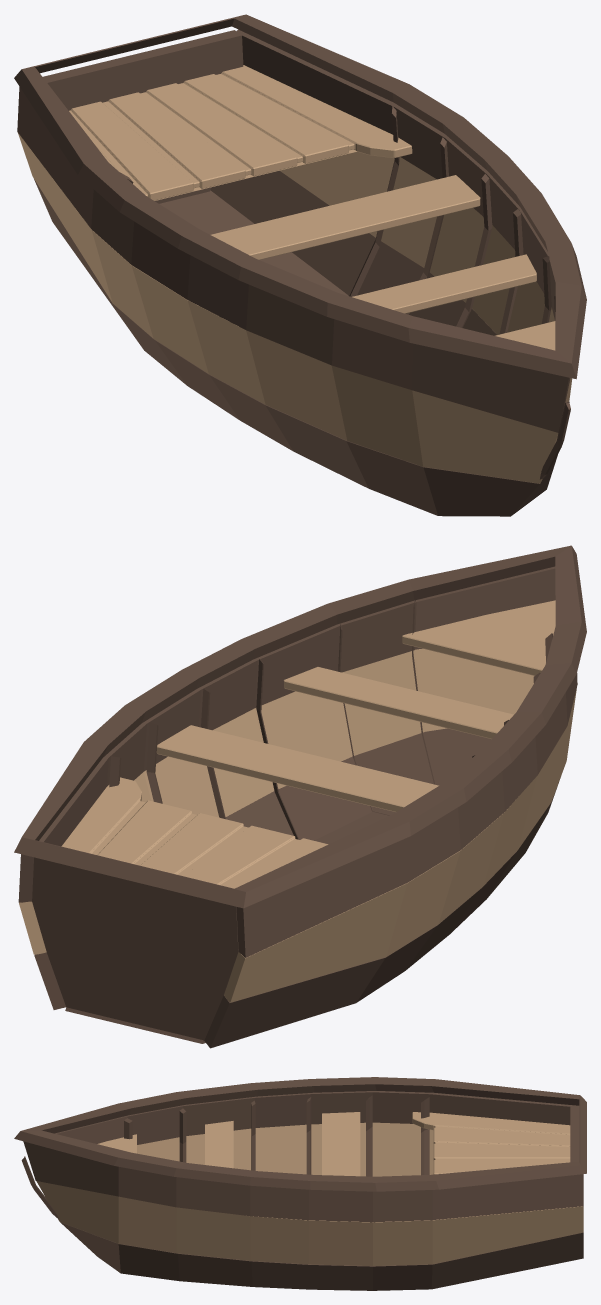
Rendered from boat.glb.
3 renders of one model, top to bottom at view 1: azimuth 30°, elevation 25°; view 2: azimuth 150°, elevation 25°; view 3: azimuth 270°, elevation 25°, orthographic. The views are drawn at different scales.
Visible parts, largest first — view 1: middle boat, upper boat, boat outer rim, back bench, lower boat, bench 1, boat back, bench 2, boat ribs, boat shell, bench 2.001; view 2: middle boat, upper boat, boat outer rim, boat back, lower boat, back bench, bench 1, bench 2.001, bench 2, boat ribs, boat shell; view 3: middle boat, upper boat, boat outer rim, lower boat, back bench, boat ribs, bench 1, bench 2, boat back, bench 2.001, boat front strip.
Part boxes in pixels (x1,y1,x2,y2): middle boat: (17, 132, 572, 483); upper boat: (17, 29, 570, 432); boat outer rim: (14, 14, 586, 379); back bench: (69, 65, 412, 200); lower boat: (34, 170, 557, 516); bench 1: (211, 175, 480, 259); boat back: (43, 30, 243, 203); bench 2: (352, 254, 536, 313); boat ribs: (120, 106, 555, 334); boat shell: (159, 190, 348, 295); bench 2.001: (495, 321, 555, 350); middle boat: (19, 649, 576, 1002); upper boat: (18, 566, 577, 957); boat outer rim: (14, 545, 586, 908); boat back: (32, 857, 238, 1040); lower boat: (34, 728, 558, 1048); back bench: (61, 777, 328, 888); bench 1: (156, 725, 438, 811); bench 2.001: (402, 600, 555, 675); bench 2: (284, 667, 513, 739); boat ribs: (109, 600, 552, 839); boat shell: (65, 1007, 205, 1043); middle boat: (36, 1122, 583, 1265); upper boat: (23, 1091, 583, 1222); boat outer rim: (14, 1077, 586, 1191); lower boat: (60, 1222, 583, 1290); back bench: (412, 1112, 570, 1174); boat ribs: (124, 1095, 429, 1176); bench 1: (322, 1112, 360, 1176); bench 2: (205, 1121, 233, 1168); boat back: (570, 1106, 579, 1162); bench 2.001: (97, 1134, 136, 1153); boat front strip: (21, 1156, 58, 1218).
Bounding box in the file's own units: 2.91 × 1.6 × 6.52.
